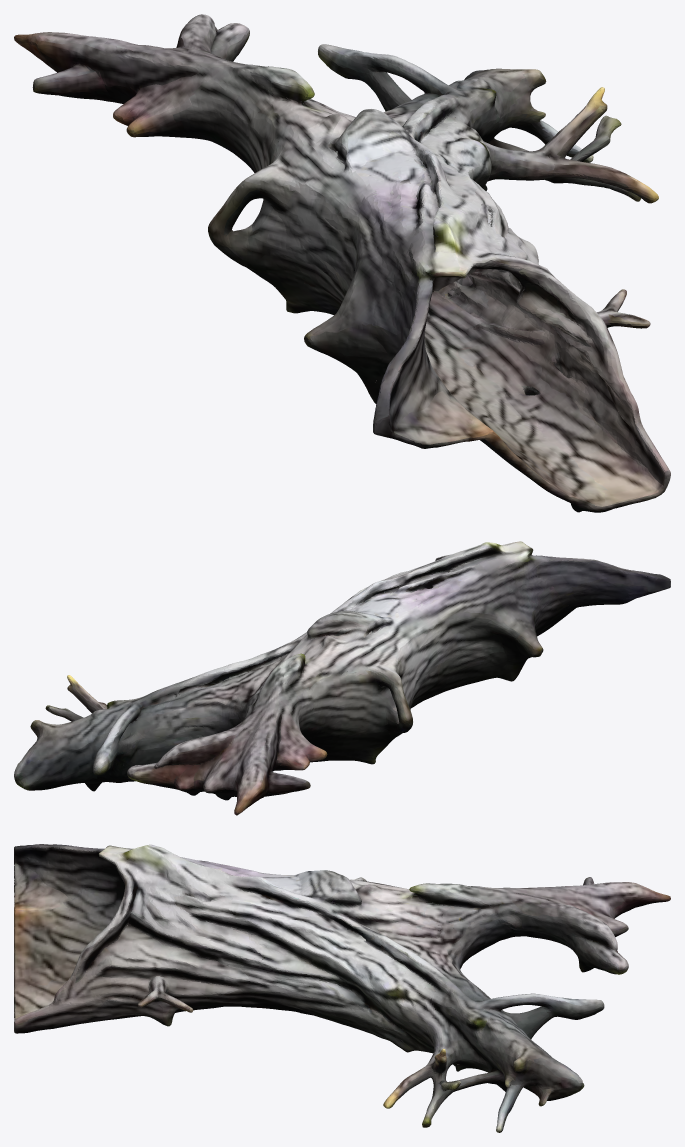
File: swamp_cypress_02.glb
3 renders of one model, top to bottom at view 1: azimuth 30°, elevation 25°; view 2: azimuth 150°, elevation 25°; view 3: azimuth 270°, elevation 25°, orthographic. The views are drawn at different scales.
Parts seen in each view (by area): view 1: geometry_0; view 2: geometry_0; view 3: geometry_0.
Part boxes in pixels (x1,y1,x2,y2): geometry_0: [14, 14, 670, 512]; geometry_0: [14, 541, 670, 815]; geometry_0: [14, 844, 670, 1132].
Size of the model in its own units: 0.6806 by 0.2598 by 1.
1 material, 1 textured.
